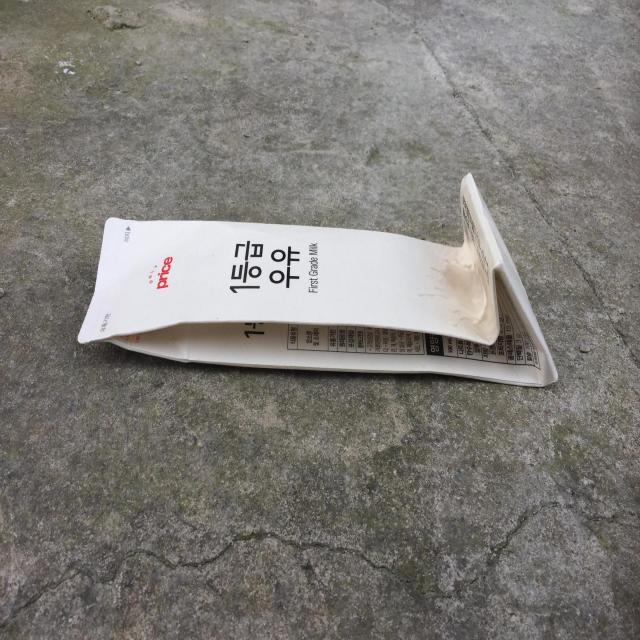paperpack: (77, 173, 559, 386)
